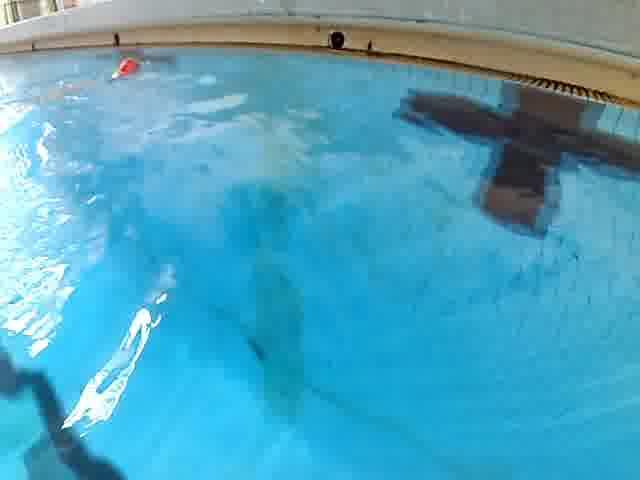Can: (110, 53, 141, 86)
